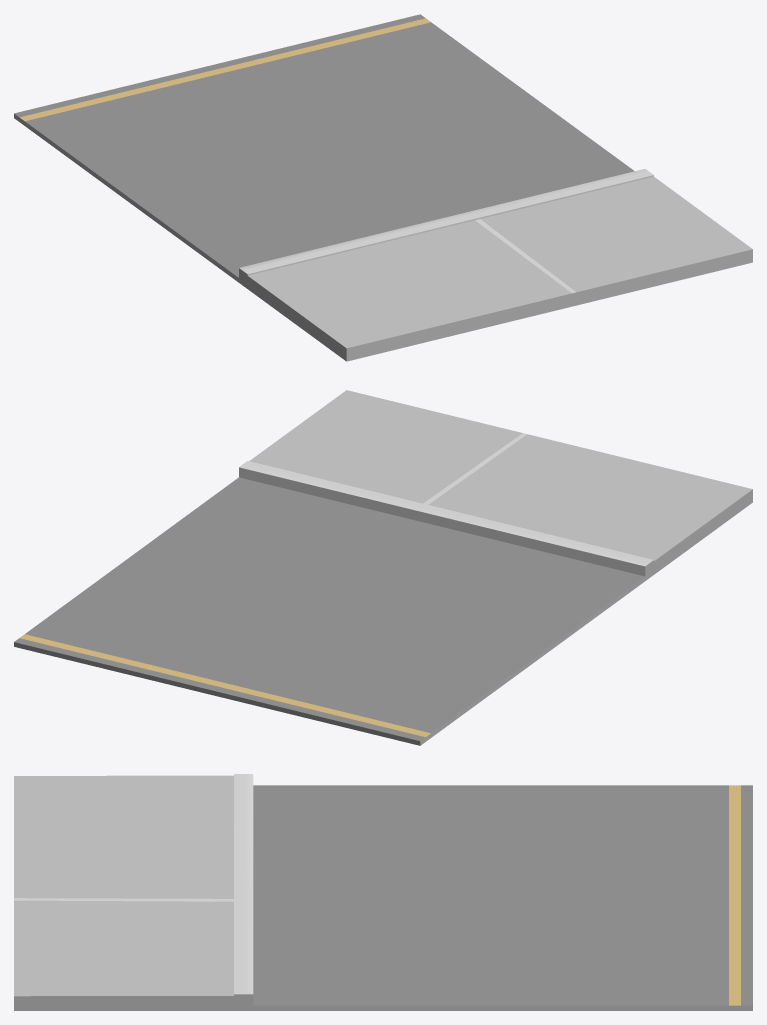
Rendered from doroga.fbx.
3 renders of one model, top to bottom at view 1: azimuth 30°, elevation 25°; view 2: azimuth 150°, elevation 25°; view 3: azimuth 270°, elevation 25°, orthographic. The views are drawn at different scales.
Parts seen in each view (by area): view 1: Extrude_2; view 2: Extrude_2; view 3: Extrude_2.
Part boxes in pixels (x1,y1,x2,y2): Extrude_2: [14, 14, 752, 361]; Extrude_2: [14, 390, 752, 745]; Extrude_2: [14, 774, 752, 1010].
Bounding box in the file's own units: 707 × 24.86 × 1003.
